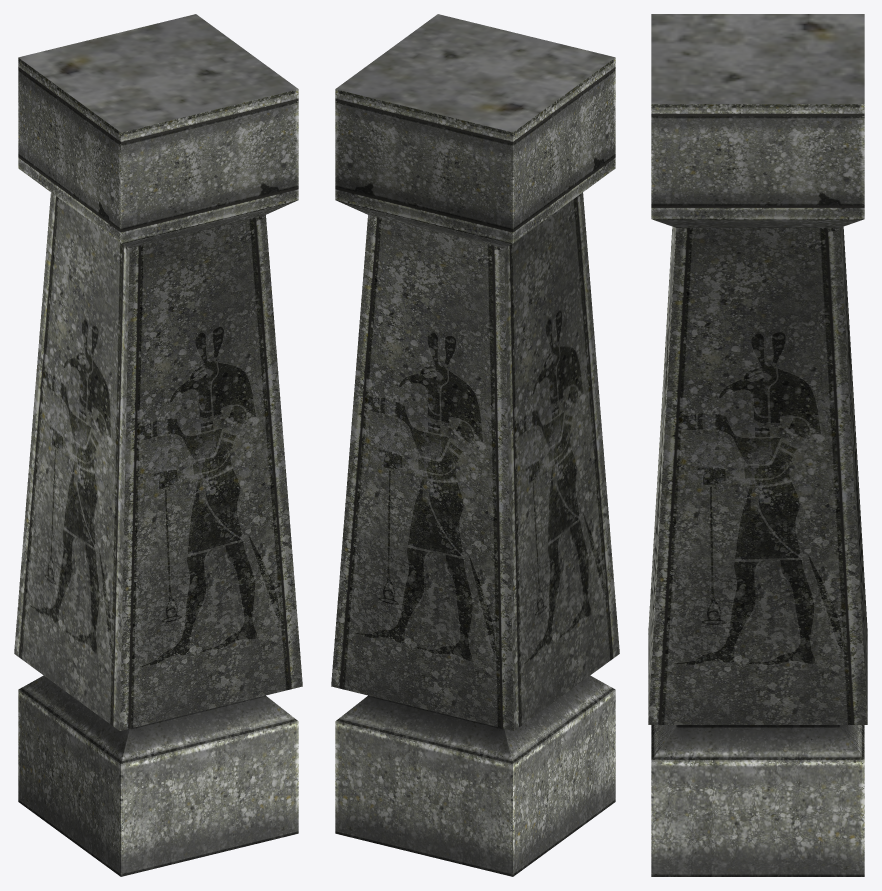
File: dun_stone_deco_A.FBX
3 renders of one model, left to right at view 1: azimuth 30°, elevation 25°; view 2: azimuth 150°, elevation 25°; view 3: azimuth 270°, elevation 25°, orthographic. The views are drawn at different scales.
Parts seen in each view (by area): view 1: dun_stone_deco_A; view 2: dun_stone_deco_A; view 3: dun_stone_deco_A.
Part boxes in pixels (left/top/right/bottom): dun_stone_deco_A: left=14, top=14, right=302, bottom=876; dun_stone_deco_A: left=331, top=14, right=619, bottom=876; dun_stone_deco_A: left=648, top=14, right=867, bottom=876.
Size of the model in its own units: 3.09 by 12 by 3.09.
